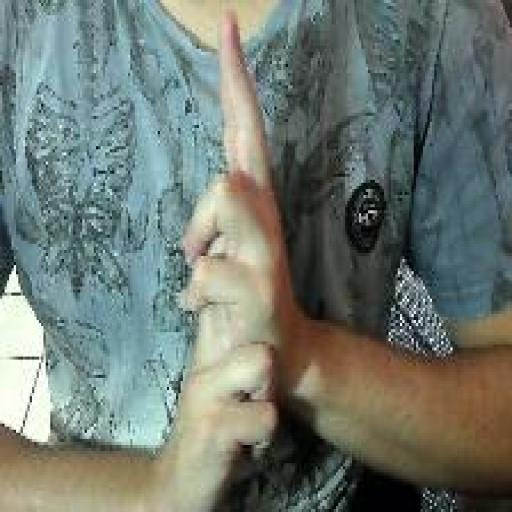Hitsuji -ram-: (173, 6, 296, 512)
